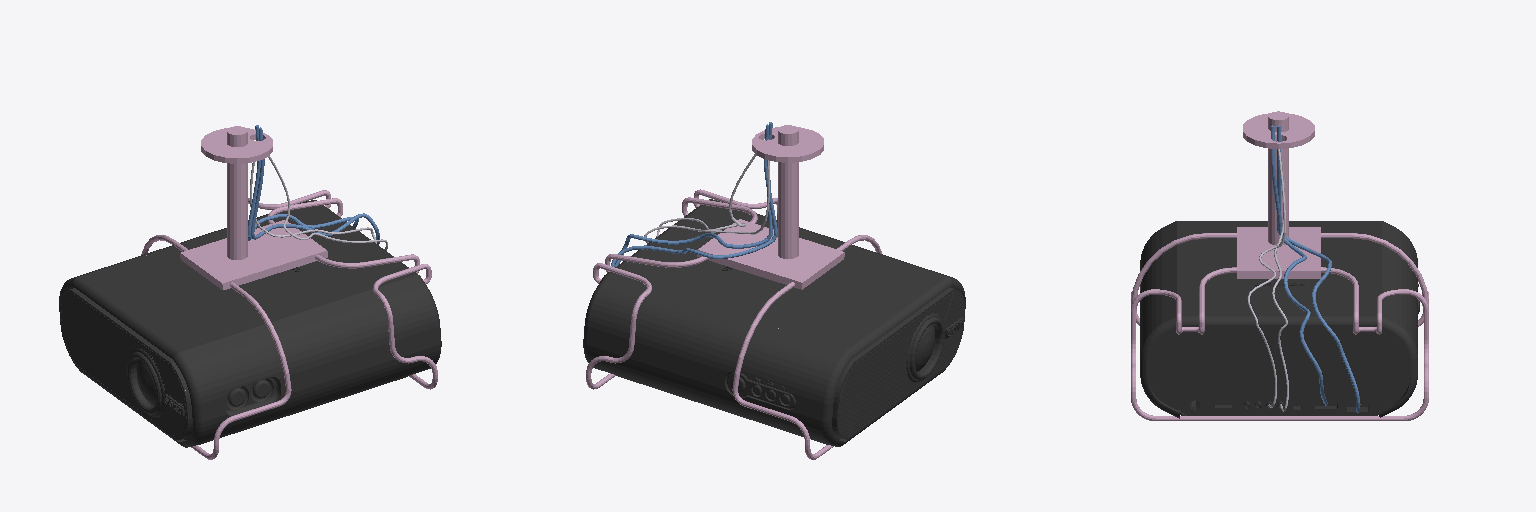
The picture shows the model from 3 angles: view 1: azimuth 30°, elevation 25°; view 2: azimuth 150°, elevation 25°; view 3: azimuth 270°, elevation 25°; orthographic projection.
Visible parts, largest first — view 1: projetor; view 2: projetor; view 3: projetor.
Boxes of the visible parts, x1,y1,x2,y2 form: projetor: [59, 125, 441, 459]; projetor: [583, 122, 965, 459]; projetor: [1131, 111, 1428, 420].
Size of the model in its own units: 404 by 361 by 374.
Materials: 4 (2 with a texture image).